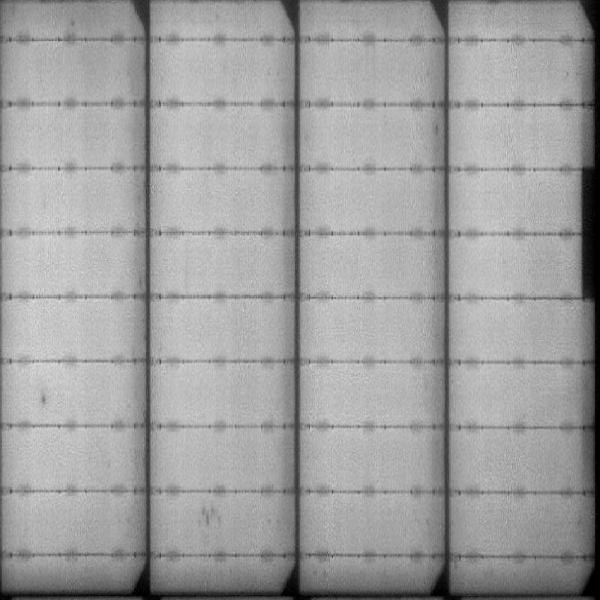black_border: (576, 161, 599, 310)
